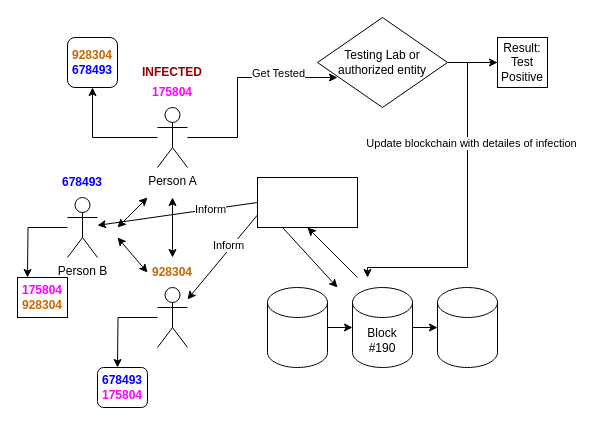
The diagram is 593 pixels wide and 425 high, and some of its shapes have lost their labels. The shapes that lost their labels are listed below. From the top down, each one's box as (x1, y1, x2, y2) in pixels, then its label:
(256, 176, 358, 228): Server
(156, 286, 188, 348): Person C
(266, 286, 328, 368): Block #189
(436, 286, 498, 368): Block #191
